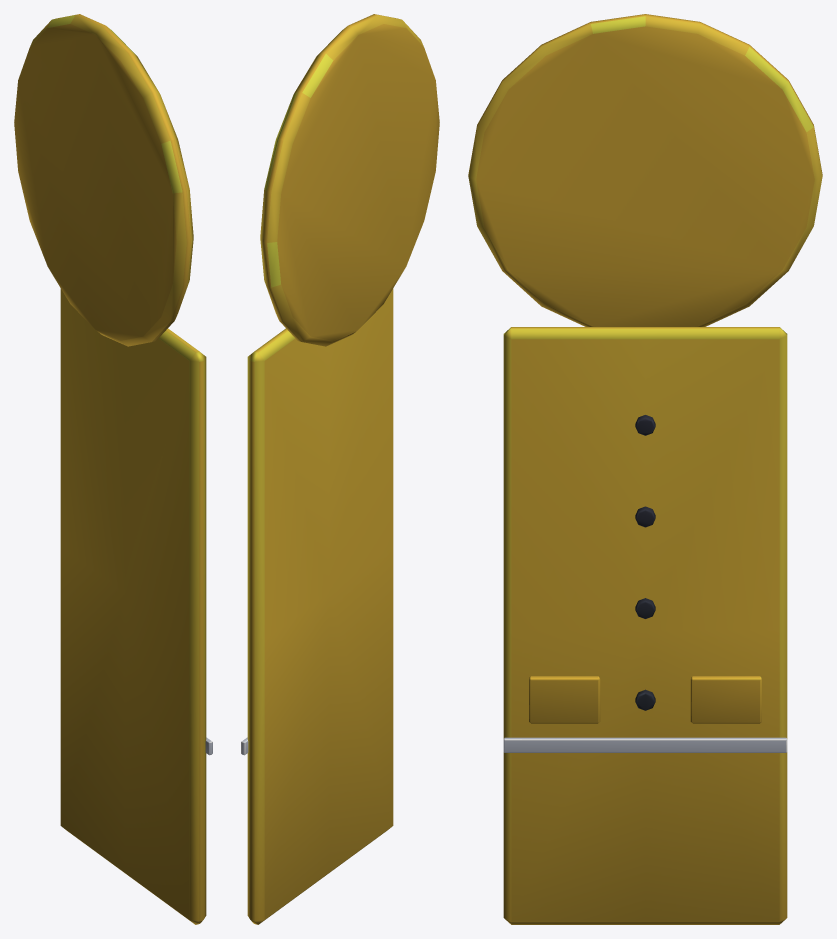
File: SM_Prop_StandIn_Raincoat.fbx
The picture shows the model from 3 angles, left to right: view 1: azimuth 30°, elevation 25°; view 2: azimuth 150°, elevation 25°; view 3: azimuth 270°, elevation 25°; orthographic projection. The views are drawn at different scales.
Visible parts, largest first — view 1: SM_Prop_StandIn_Raincoat; view 2: SM_Prop_StandIn_Raincoat; view 3: SM_Prop_StandIn_Raincoat.
Boxes of the visible parts, x1=… form: SM_Prop_StandIn_Raincoat: x1=14, y1=14, x2=212, y2=924; SM_Prop_StandIn_Raincoat: x1=241, y1=14, x2=439, y2=924; SM_Prop_StandIn_Raincoat: x1=468, y1=14, x2=822, y2=924.
Size of the model in its own units: 12.55 by 195 by 70.04.
